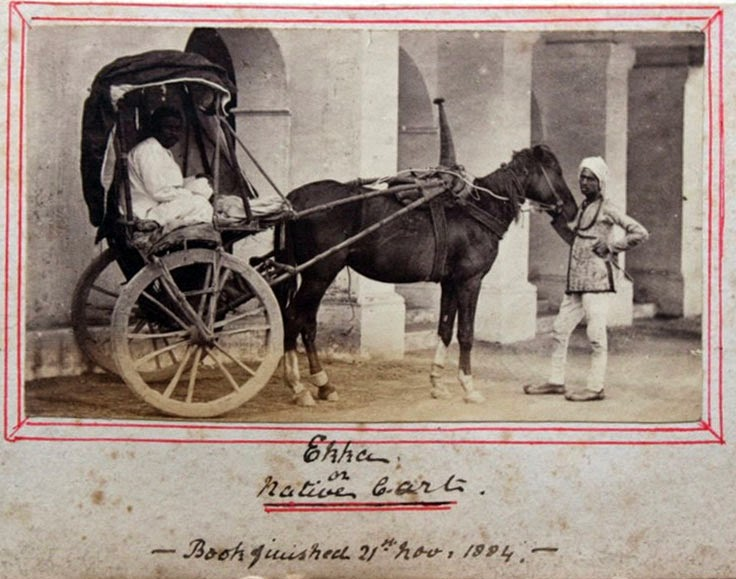equine: (259, 139, 575, 412)
human: (520, 144, 667, 400), (109, 109, 238, 229)
